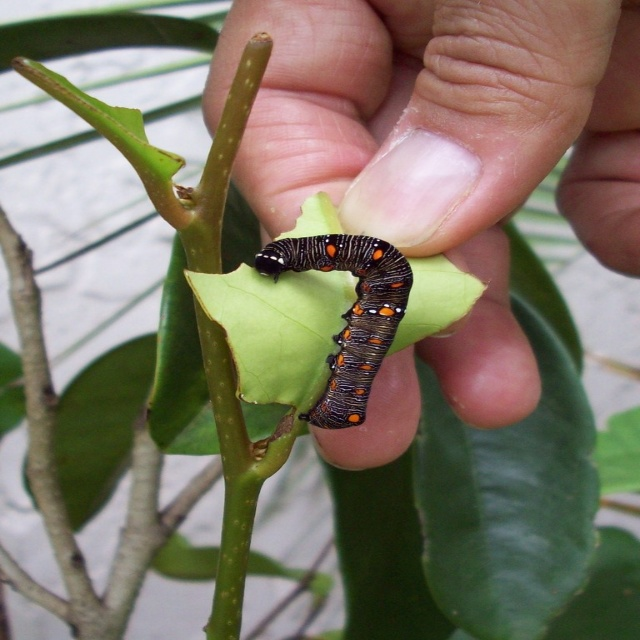Caterpillar: (254, 233, 414, 429)
